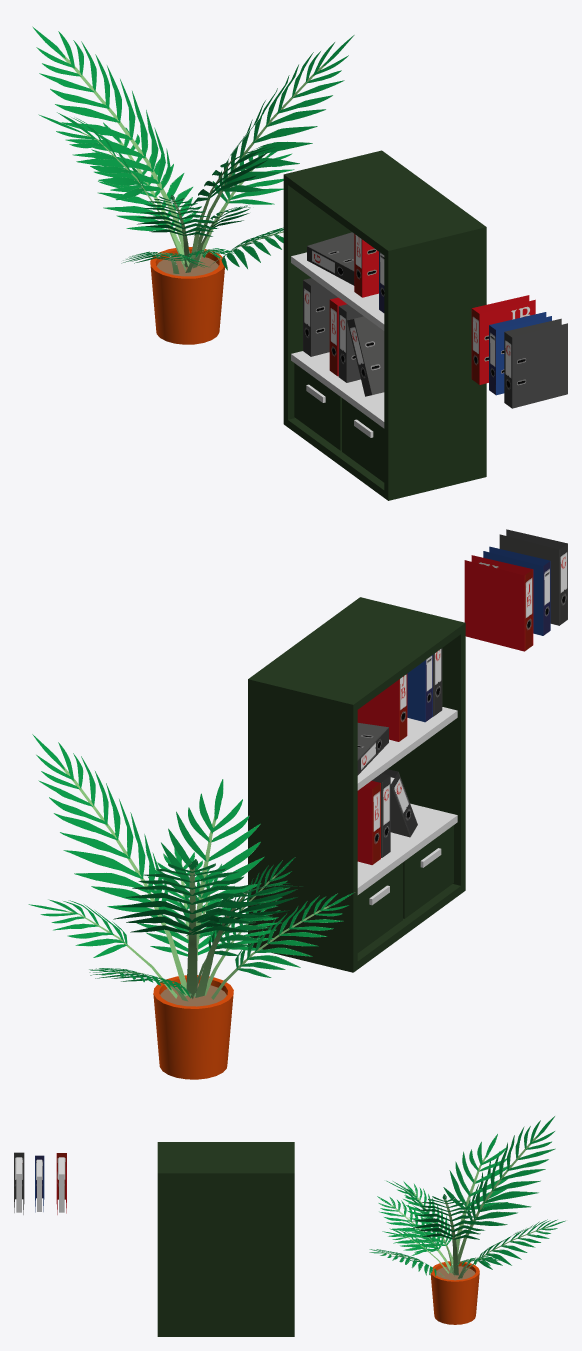
File: Props_2.fbx
3 renders of one model, top to bottom at view 1: azimuth 30°, elevation 25°; view 2: azimuth 150°, elevation 25°; view 3: azimuth 270°, elevation 25°, orthographic. The views are drawn at different scales.
Visible parts, largest first — view 1: Cube.183, Cylinder.035, Cube.195, Cube.199, Cube.198; view 2: Cube.183, Cylinder.035, Cube.199, Cube.195, Cube.198; view 3: Cube.183, Cylinder.035, Cube.195, Cube.199, Cube.198.
Boxes of the visible parts, x1,y1,x2,y2 form: Cube.183: (283,150,486,500); Cylinder.035: (32,26,354,344); Cube.195: (504,318,567,408); Cube.199: (471,295,535,384); Cube.198: (489,312,551,395); Cube.183: (248,597,465,972); Cylinder.035: (28,734,354,1079); Cube.199: (464,555,533,651); Cube.195: (499,529,567,625); Cube.198: (483,546,550,635); Cube.183: (157,1142,294,1336); Cylinder.035: (369,1116,565,1324); Cube.195: (14,1152,24,1214); Cube.199: (56,1153,66,1214); Cube.198: (35,1155,44,1212).
Size of the model in its own units: 477 by 420 by 1201.
